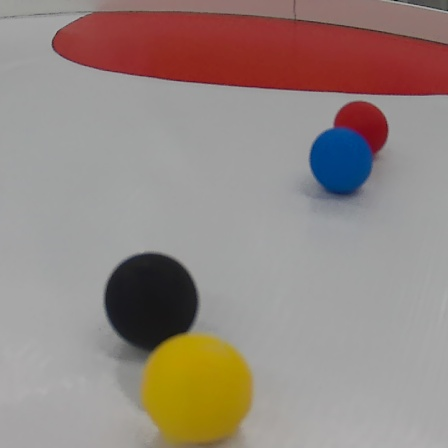black: (104, 248, 204, 353)
blue: (310, 127, 378, 194)
red: (332, 101, 388, 155)
red_base: (56, 7, 448, 99)
yellow: (139, 331, 254, 446)
